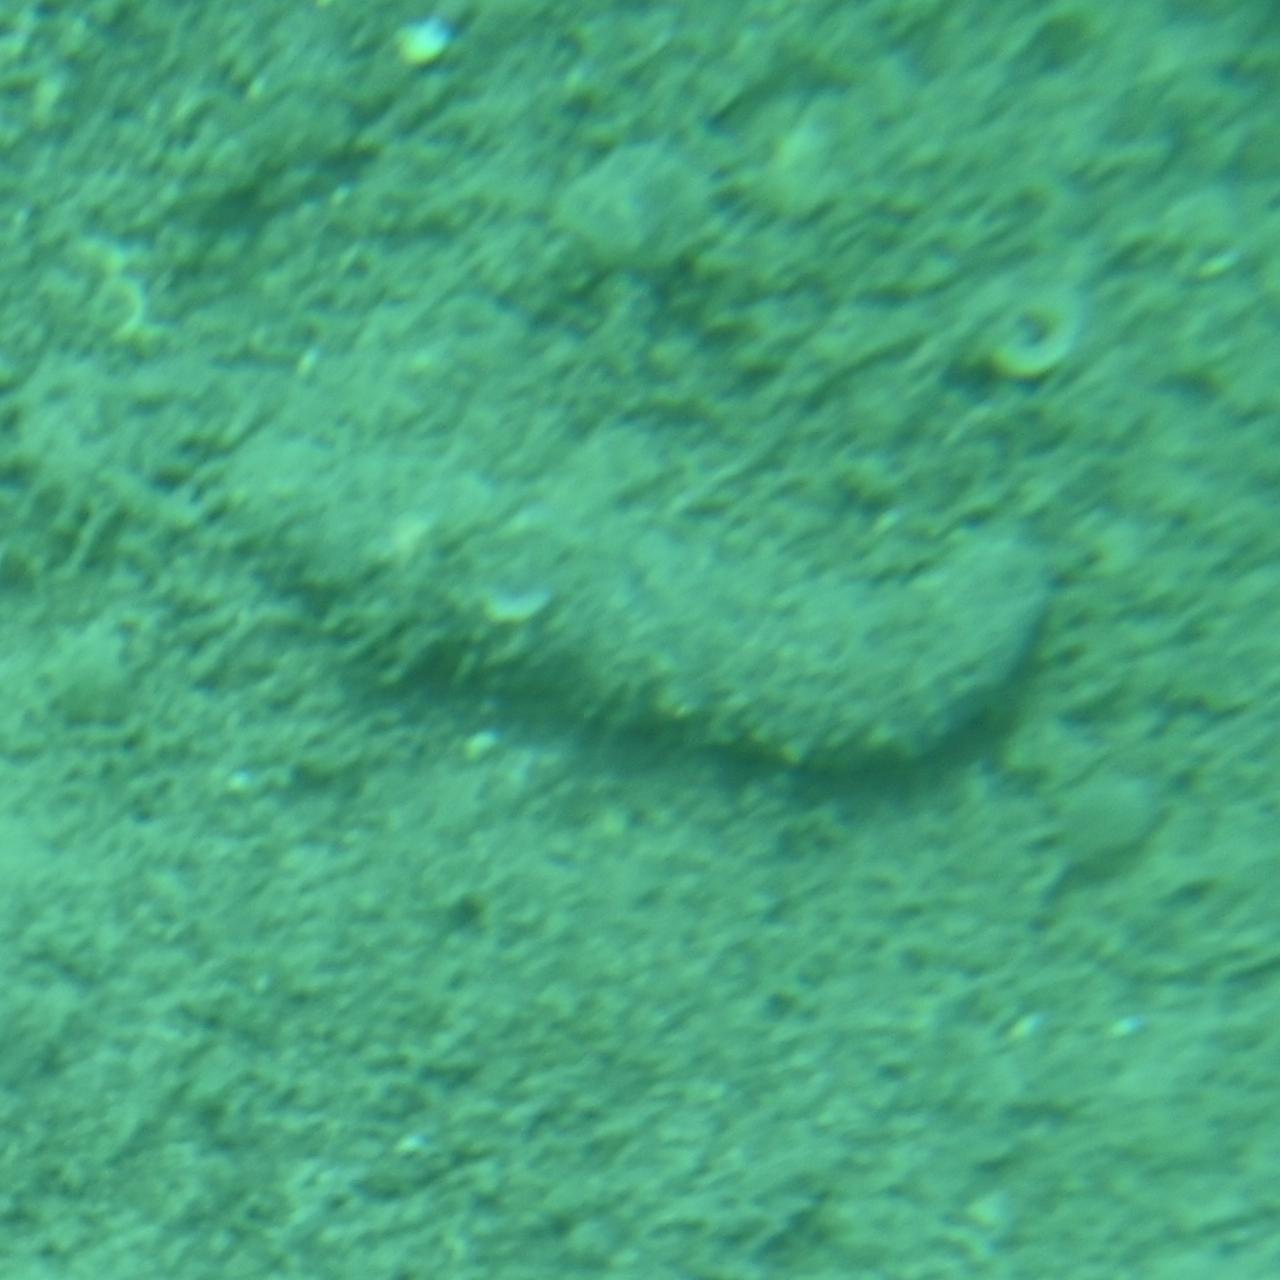Holothuria tubulosa: (215, 430, 1065, 782)
